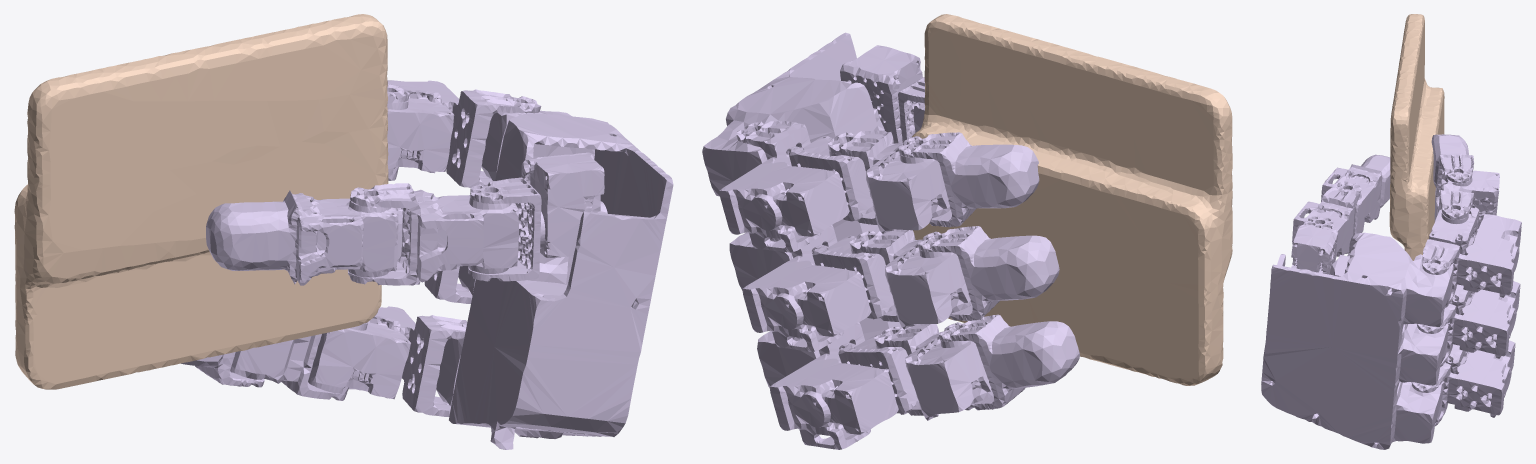
Rendered from 0d41ba0285978f-closed.glb.
3 views of the same model, side by side, from view 1: azimuth 30°, elevation 25°; view 2: azimuth 150°, elevation 25°; view 3: azimuth 270°, elevation 25° (orthographic). The views are drawn at different scales.
Visible parts, largest first — view 1: LEAP_hand, world; view 2: LEAP_hand, world; view 3: LEAP_hand, world.
Boxes of the visible parts, x1,y1,x2,y2 form: LEAP_hand: [181, 80, 673, 449]; world: [14, 14, 388, 389]; LEAP_hand: [702, 32, 1079, 449]; world: [912, 14, 1232, 385]; LEAP_hand: [1261, 134, 1521, 449]; world: [1389, 14, 1444, 260].
Size of the model in its own units: 0.2481 by 0.1873 by 0.1539.
